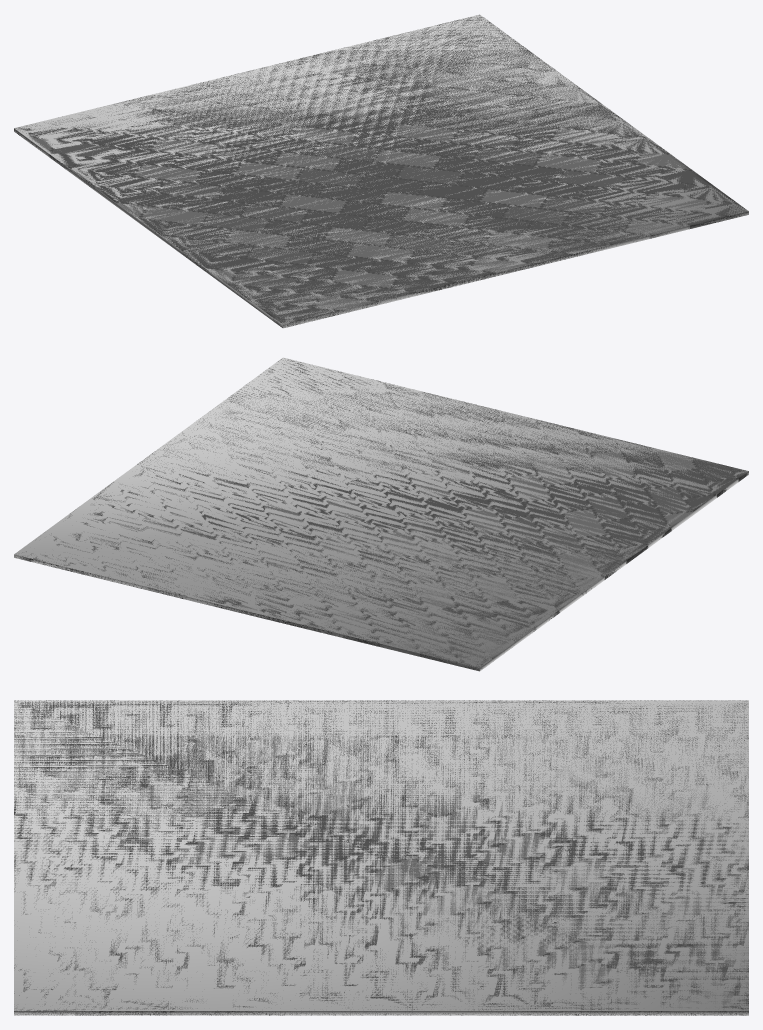
The model's file is TiledFloor.fbx.
3 renders of one model, top to bottom at view 1: azimuth 30°, elevation 25°; view 2: azimuth 150°, elevation 25°; view 3: azimuth 270°, elevation 25°, orthographic. The views are drawn at different scales.
Parts seen in each view (by area): view 1: Untitled_Backup, Untitled; view 2: Untitled, Untitled_Backup; view 3: Untitled, Untitled_Backup.
Part boxes in pixels (box(x1,y1,x2,y2)): Untitled_Backup: box(14, 14, 748, 327); Untitled: box(14, 15, 748, 328); Untitled: box(14, 357, 748, 671); Untitled_Backup: box(14, 358, 748, 669); Untitled: box(14, 700, 748, 1015); Untitled_Backup: box(14, 700, 748, 1015).
Bounding box in the file's own units: 1440 × 10 × 1440.
